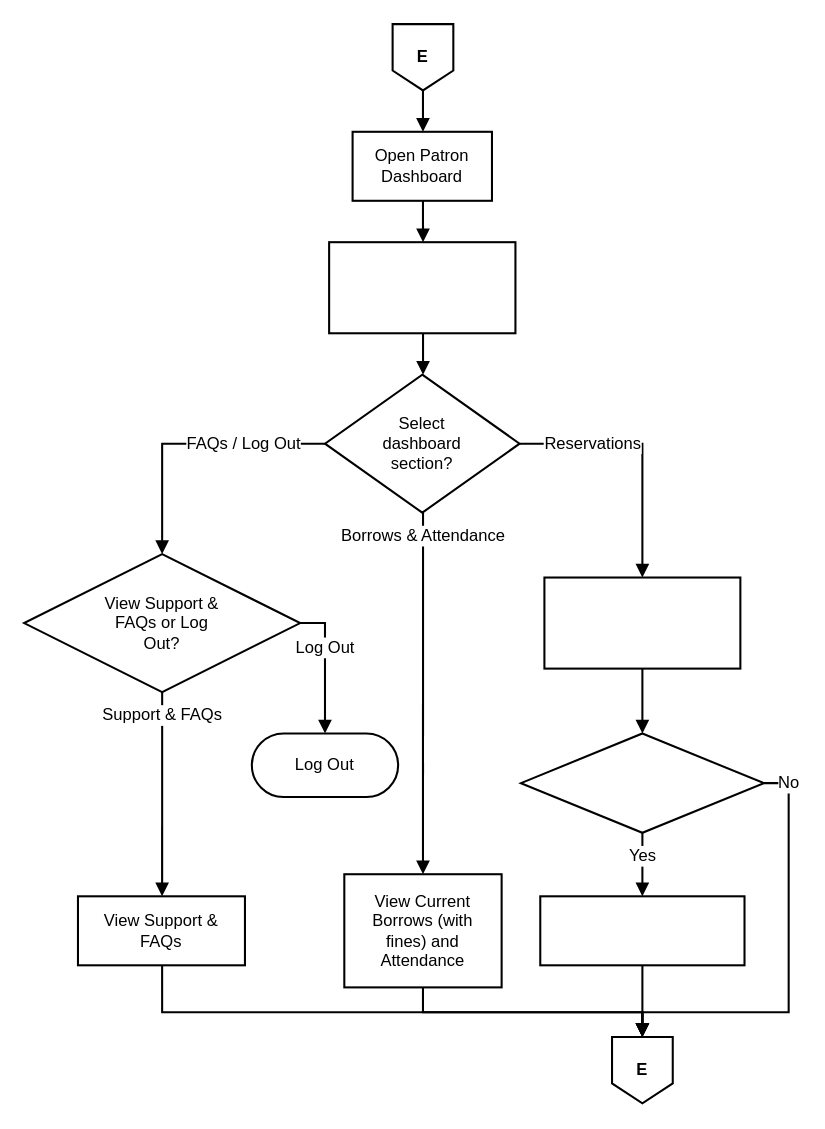
Image size: 825x1129. Some labels were removed from this diagram. The box of each missing label's shape, as (x1, y1, x2, y2) in pixels:
Cancel a reservation?: (519, 732, 764, 833)
Cancel reservation and update queue: (539, 895, 745, 966)
View Digital Library Card and announcements: (327, 241, 516, 334)
View holds (Ready for Pickup or queued): (543, 576, 741, 669)
